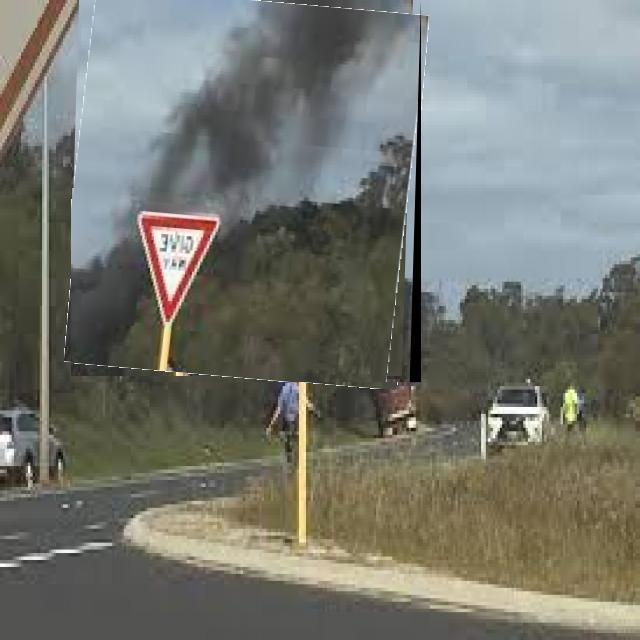smoke: (115, 6, 262, 209), (258, 16, 360, 200), (360, 14, 414, 105)
